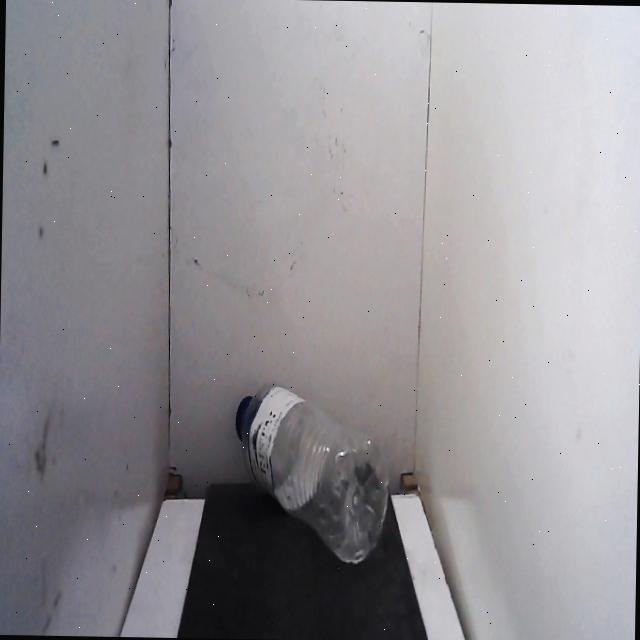plastico: (227, 370, 398, 570)
